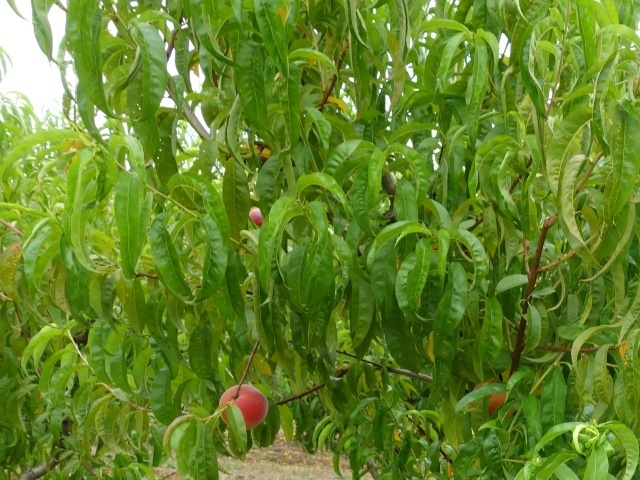peach: (214, 380, 270, 434), (478, 378, 517, 419), (245, 201, 268, 230)
